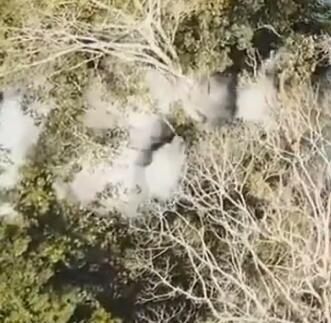smoke: (0, 67, 277, 221)
